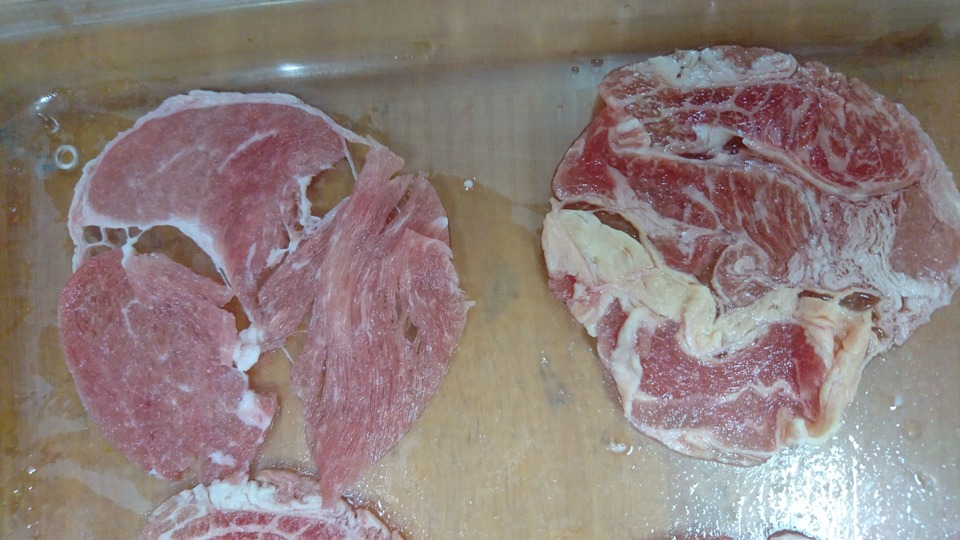restructured meat: (554, 41, 948, 480), (64, 95, 469, 483)
